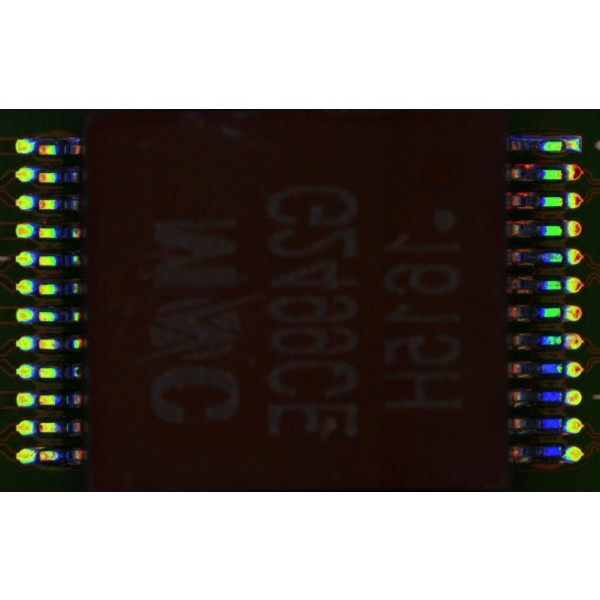Bad_podu: (557, 140, 571, 150)
